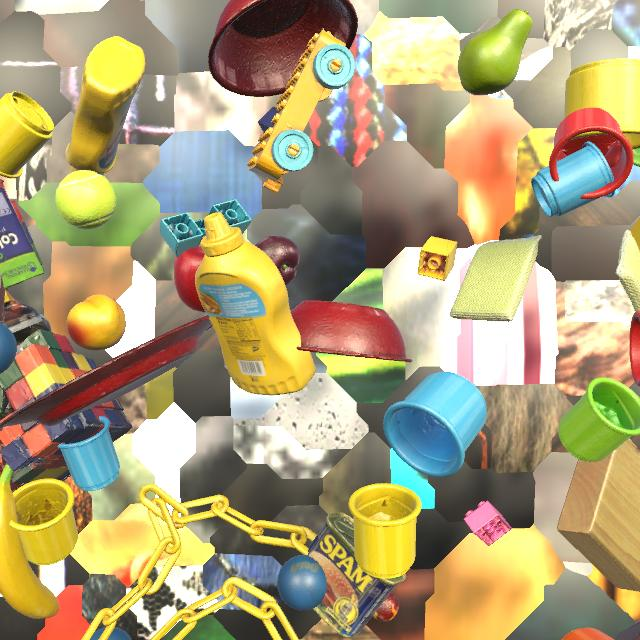ycb_006_mustard_bottle: (195, 212, 316, 395), (65, 36, 145, 176)
ycb_008_pudding_box: (0, 272, 5, 323)
ycb_010_potted_meat_can: (308, 512, 406, 638)
ycb_011_banana: (0, 464, 60, 619)
ycb_013_apple: (174, 236, 206, 313)
ycb_015_peach: (66, 294, 126, 351)
ycb_016_pear: (458, 9, 533, 96)
ycb_018_plum: (255, 235, 300, 286)
